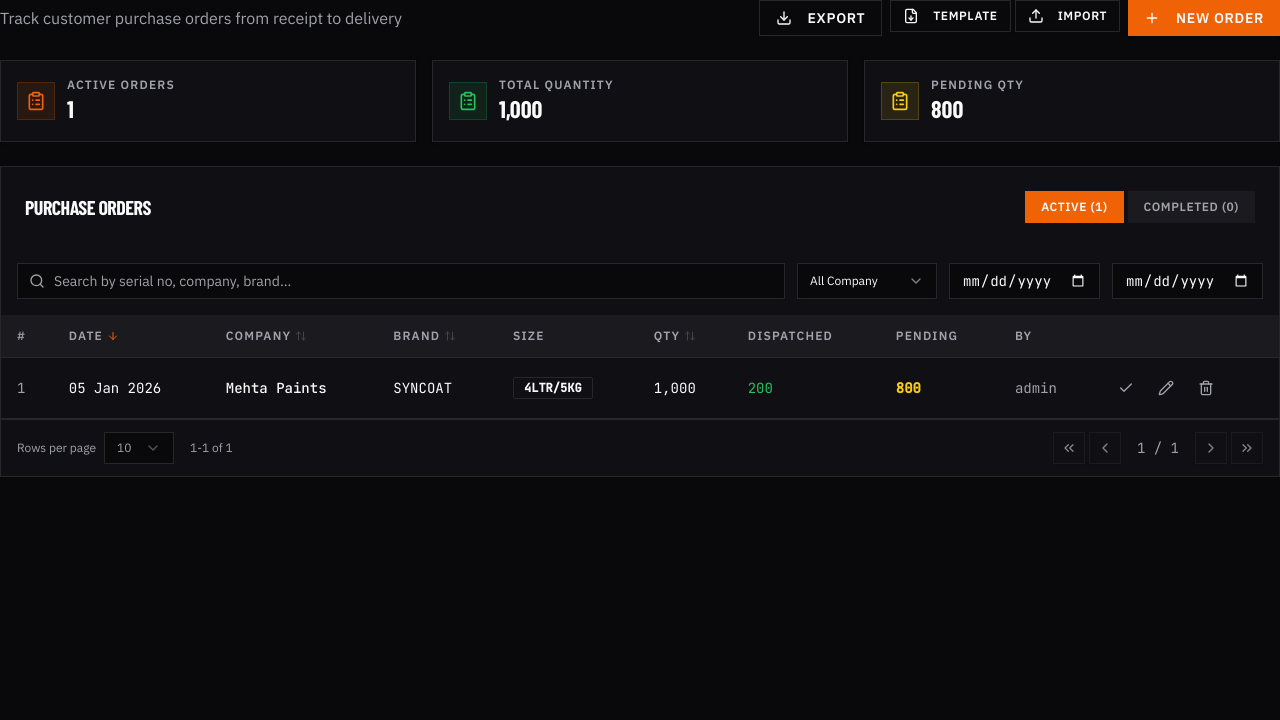
Test: refuses to stage a PO line with quantity 0
This screenshot has width=1280, height=720.
expect the table with test id "po-table" is shown: met, box 1,315 -> 1279,419
Click the button with test id "add-po-btn" at (1204, 18), box 1128,0 -> 1279,36
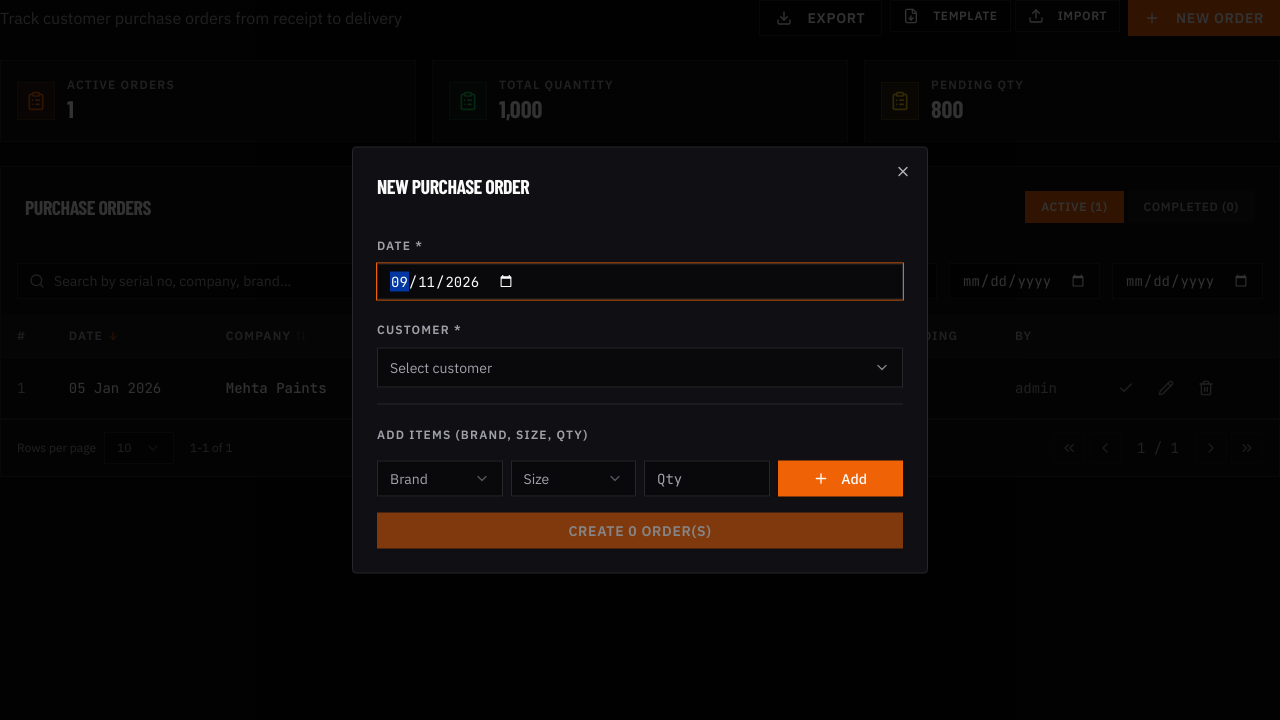
Type "0" into the number field with test id "po-quantity" at (707, 478), box 644,460 -> 770,496
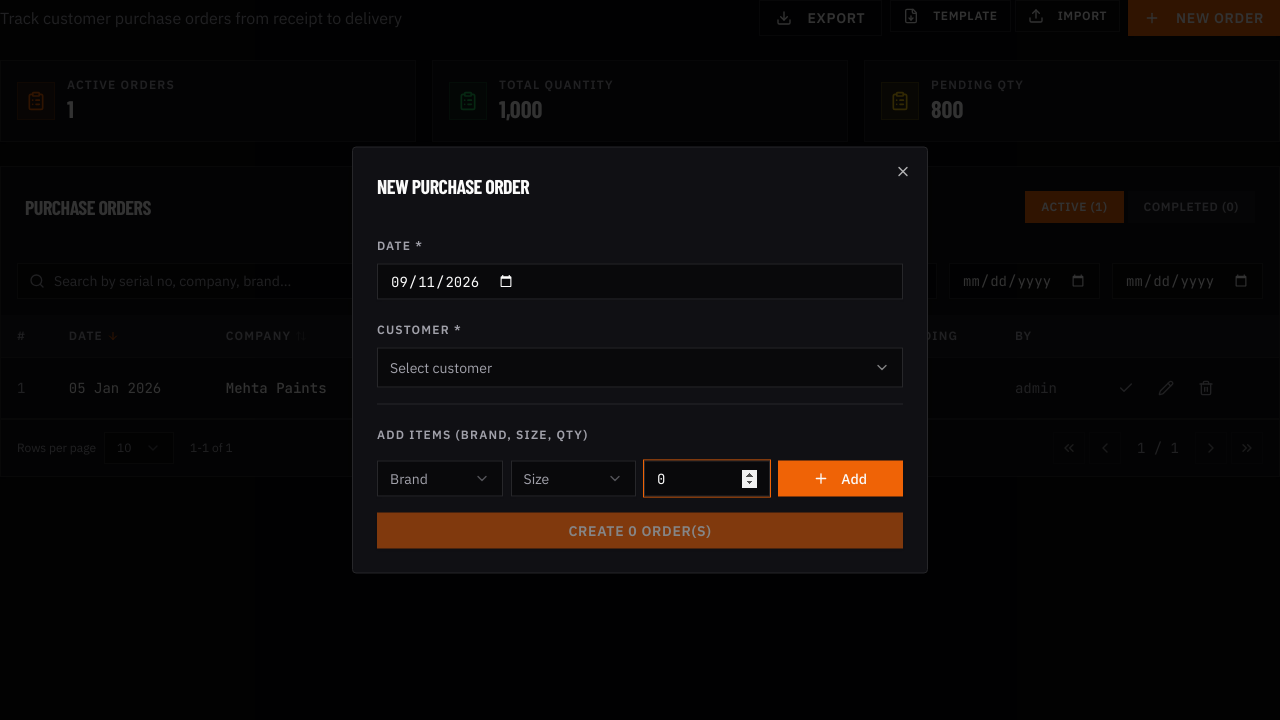
Click the button with test id "add-po-item-btn" at (840, 478), box 778,460 -> 903,496
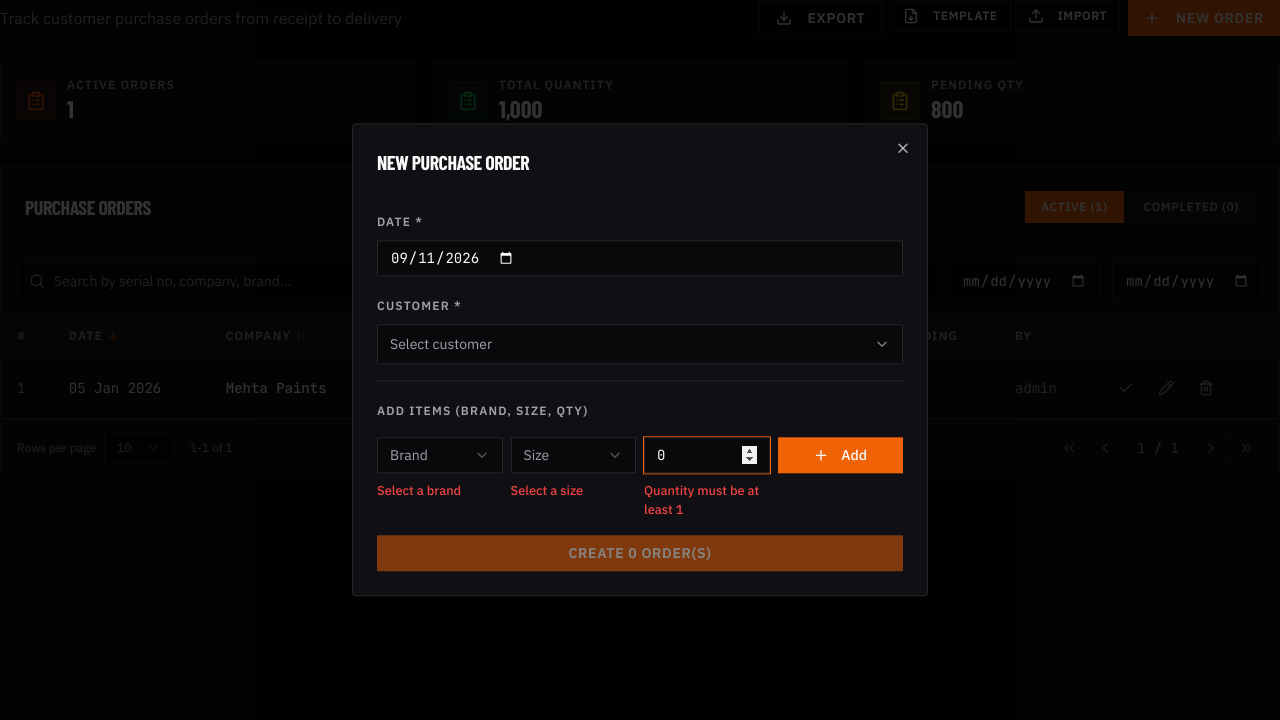
expect the text "Quantity must be at least 1" is shown: met, box 644,481 -> 770,520
